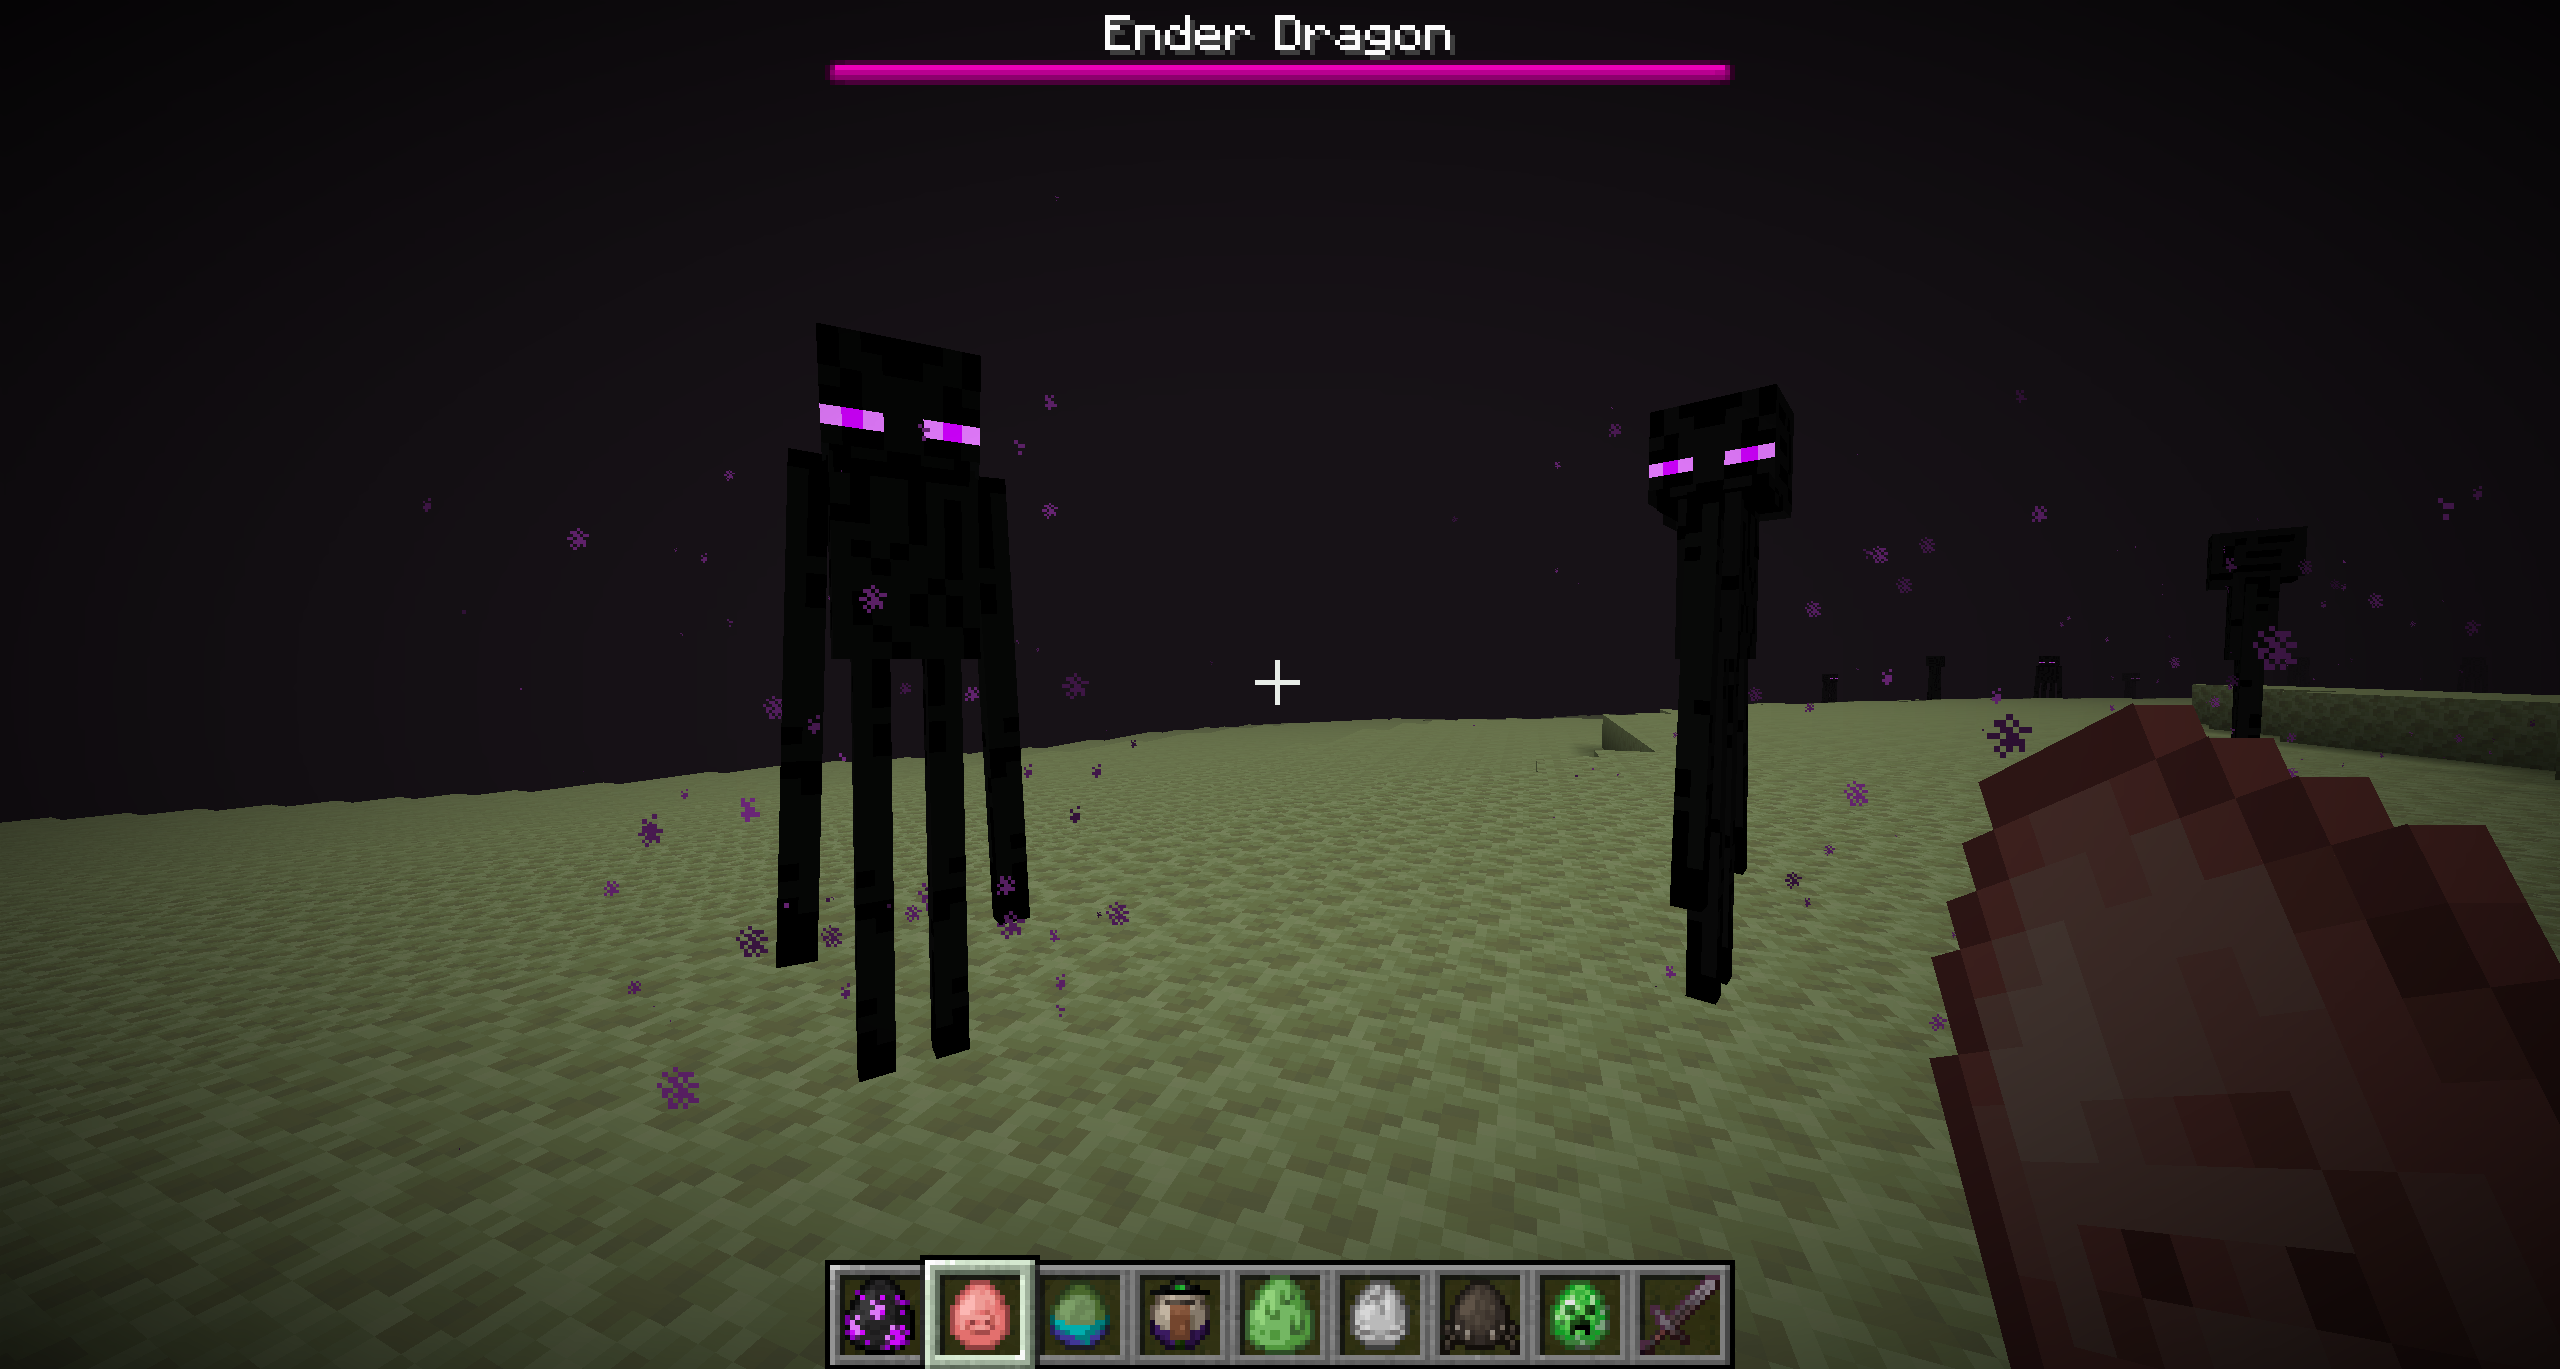endermens: (772, 313, 1031, 1088), (1641, 406, 1763, 1005), (2194, 528, 2306, 746), (2035, 657, 2064, 709), (1918, 655, 1945, 709), (1818, 668, 1844, 717)
